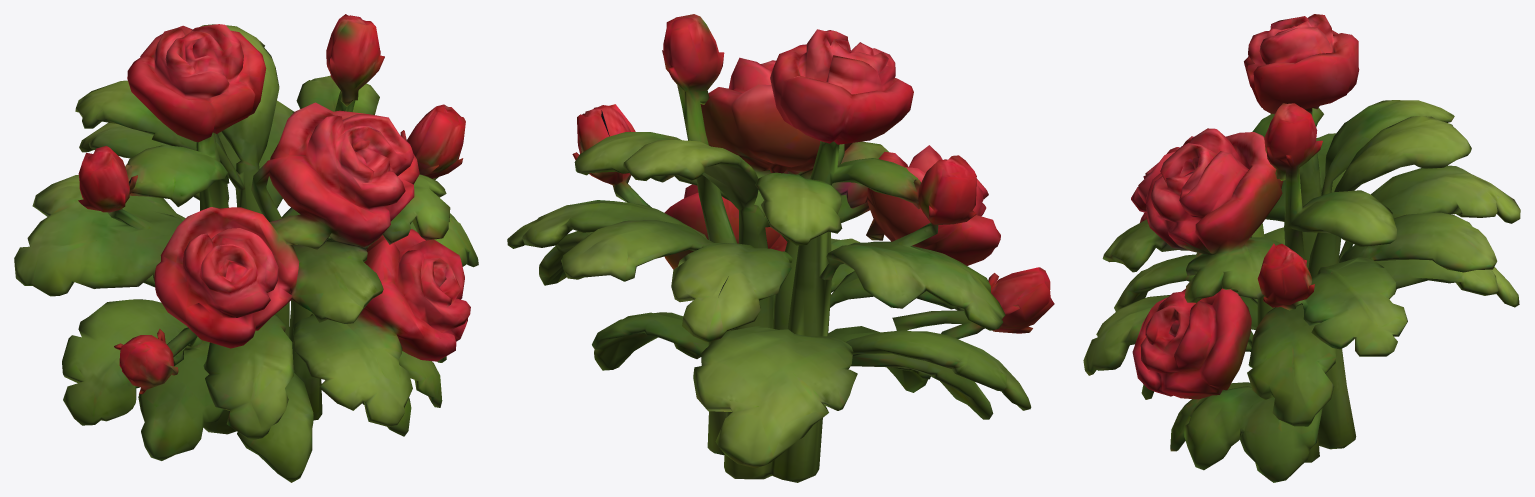
Rendered from rose_bush.glb.
3 renders of one model, left to right at view 1: azimuth 30°, elevation 25°; view 2: azimuth 150°, elevation 25°; view 3: azimuth 270°, elevation 25°, orthographic. The views are drawn at different scales.
Parts seen in each view (by area): view 1: rose_bush; view 2: rose_bush; view 3: rose_bush.
Boxes of the visible parts, box(x1,y1,x2,y2) form: rose_bush: box(14, 14, 478, 482); rose_bush: box(507, 14, 1054, 482); rose_bush: box(1083, 14, 1520, 482).
Size of the model in its own units: 0.9518 by 0.8505 by 0.8616.
1 material, 1 textured.
